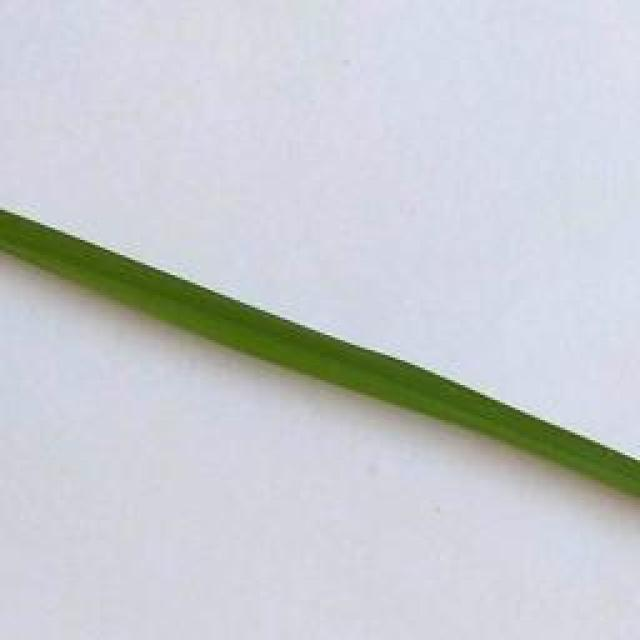Healthy: (0, 208, 640, 499)
